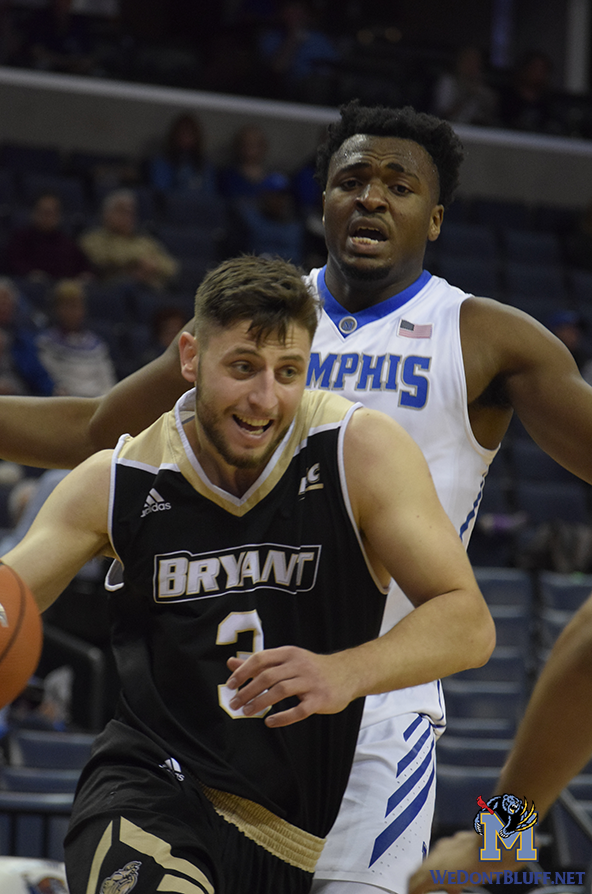ball: (1, 560, 44, 712)
player: (97, 108, 580, 885), (1, 255, 490, 893)
